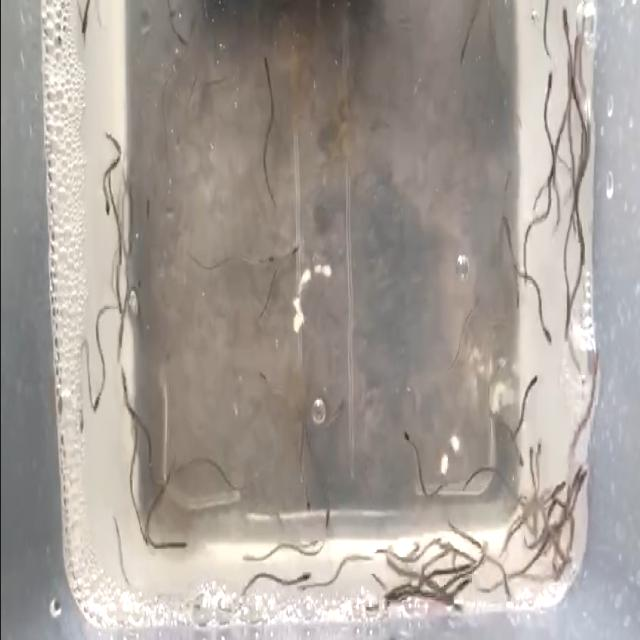inactive_glass_eel: (291, 571, 316, 597), (578, 2, 590, 50), (288, 568, 312, 590), (168, 534, 190, 558), (239, 550, 259, 576), (502, 165, 516, 202), (551, 474, 569, 502), (90, 382, 104, 415), (448, 576, 468, 598), (574, 465, 588, 496), (119, 373, 131, 409), (511, 442, 525, 472), (258, 248, 274, 274), (500, 576, 512, 610), (568, 40, 580, 74), (140, 180, 152, 214), (282, 240, 302, 260), (533, 440, 544, 476), (302, 486, 314, 519), (528, 442, 536, 490), (78, 5, 90, 36), (562, 11, 570, 57), (562, 306, 570, 352), (453, 44, 467, 70), (114, 332, 125, 364), (542, 324, 554, 352), (398, 428, 414, 448), (262, 58, 272, 90), (526, 370, 538, 396), (424, 534, 441, 552), (138, 530, 150, 554), (102, 180, 110, 214), (544, 72, 556, 94), (255, 370, 269, 388), (323, 502, 332, 526)
